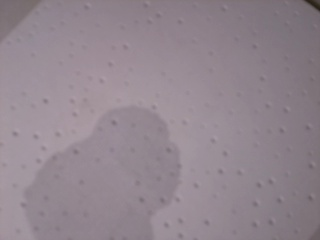Water_detected: (54, 116, 166, 239)
